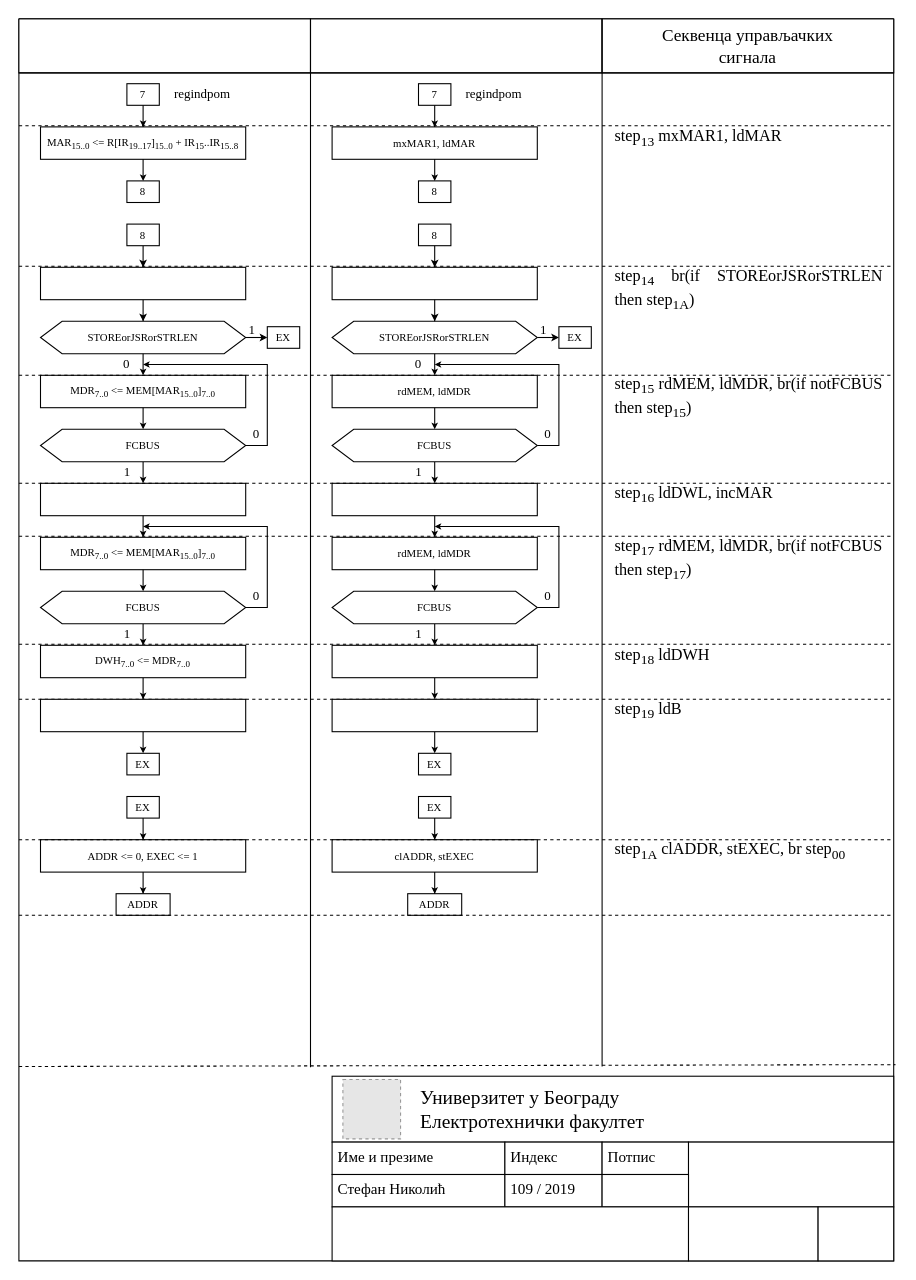
The diagram is 916 pixels wide and 1280 high, and some of its shapes have lost their labels. Grey dashed boxes stand in for pictures. The shapes that lost their labels are listed below. From the top down, each one's centre as x and y in pixels, then its label:
the point at 164,45: Дијаграм тока микрооперација
the point at 455,45: Дијаграм тока управљачких сигнала
the point at 142,499: DWL 7..0 <= MDR 7..0 , MAR 15..0 <= MAR 15..0 + 1
the point at 434,499: ldDWL, incMAR
the point at 434,661: ldDWH
the point at 142,715: B 15..0 <= DW 15..0
the point at 434,715: ldB
the point at 790,1174: Пројекат Задатак 209
the point at 509,1233: Назив Основи рачунарске технике 2
the point at 752,1233: Датум 25.09.2021.
the point at 855,1233: Страна 6
